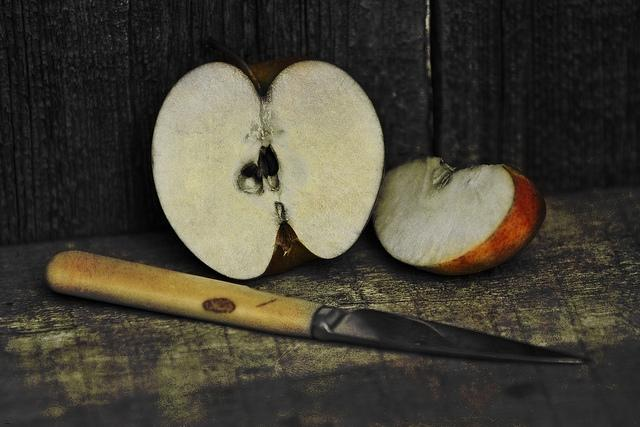apple: (152, 56, 386, 282), (374, 156, 547, 276)
